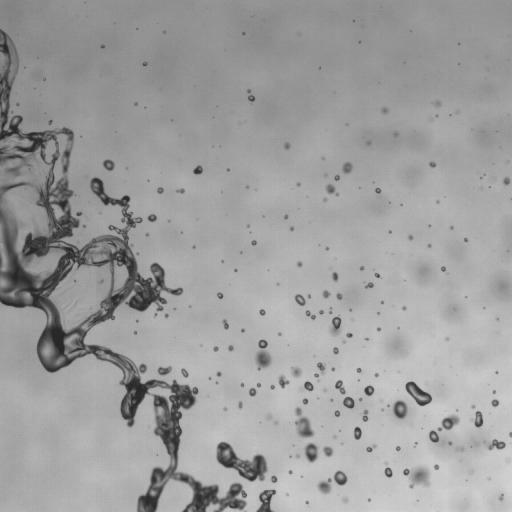droplet: (403, 466, 429, 488), (255, 339, 272, 370), (256, 489, 275, 511), (393, 400, 407, 419), (304, 443, 318, 462), (329, 315, 341, 336), (470, 411, 483, 427), (326, 184, 338, 196), (335, 380, 345, 394), (102, 159, 114, 170), (301, 380, 313, 391), (343, 396, 354, 408), (278, 375, 288, 388), (157, 366, 171, 375), (294, 294, 305, 305), (342, 162, 352, 173), (291, 366, 301, 377), (323, 446, 333, 457), (364, 385, 374, 395), (354, 426, 361, 439), (193, 165, 202, 175), (366, 444, 376, 452), (147, 214, 156, 222), (362, 410, 368, 421), (322, 290, 330, 298), (181, 368, 188, 377), (222, 319, 228, 329), (503, 177, 510, 185), (249, 388, 256, 396), (491, 399, 499, 406), (332, 272, 338, 281), (365, 282, 373, 288), (381, 107, 388, 113), (284, 142, 290, 149), (270, 476, 277, 482), (176, 188, 184, 193), (456, 446, 464, 451), (429, 161, 435, 167), (157, 187, 163, 193), (296, 261, 302, 267), (217, 292, 223, 298), (336, 293, 342, 299), (259, 309, 265, 315), (302, 398, 308, 404), (434, 101, 441, 106), (333, 347, 338, 354), (98, 279, 104, 284), (228, 345, 233, 351), (334, 410, 339, 416), (266, 414, 271, 420), (342, 497, 348, 502), (238, 401, 242, 408), (334, 175, 339, 180), (375, 188, 380, 193), (251, 240, 256, 245), (441, 266, 446, 271), (213, 346, 218, 351), (408, 234, 412, 240), (346, 333, 352, 337), (499, 494, 503, 500), (375, 273, 380, 277), (356, 368, 361, 372), (216, 372, 221, 376), (270, 384, 274, 389), (434, 464, 438, 469), (296, 182, 300, 186), (360, 266, 364, 270), (402, 306, 406, 310), (319, 310, 323, 314), (164, 314, 168, 318), (374, 373, 378, 377), (396, 446, 400, 450), (288, 470, 292, 474), (143, 62, 146, 66), (48, 120, 51, 124), (367, 141, 370, 145), (323, 198, 327, 201), (290, 226, 293, 230), (329, 309, 332, 313), (240, 383, 244, 386), (471, 405, 475, 408), (448, 441, 452, 444), (470, 470, 473, 474), (509, 432, 511, 437), (101, 45, 104, 48), (284, 215, 287, 218), (464, 238, 467, 241), (60, 292, 63, 295), (377, 327, 380, 330), (241, 328, 244, 331), (257, 383, 260, 386), (296, 454, 299, 457), (507, 459, 510, 462), (446, 337, 448, 341), (16, 103, 19, 105), (395, 132, 397, 135), (146, 233, 148, 236), (428, 244, 430, 247), (326, 247, 328, 250), (307, 295, 310, 297), (134, 331, 136, 334), (278, 332, 280, 335), (331, 368, 334, 370), (492, 391, 495, 393), (359, 398, 362, 400), (224, 407, 226, 410), (227, 168, 229, 170), (83, 225, 85, 227), (193, 246, 195, 248), (381, 301, 383, 303), (154, 314, 156, 316), (366, 338, 368, 340), (495, 371, 497, 373), (275, 421, 277, 423)
ligament: (0, 29, 245, 511), (216, 441, 267, 481), (430, 414, 459, 442), (317, 470, 347, 494), (405, 381, 431, 406), (294, 407, 314, 438), (484, 439, 505, 450), (314, 362, 325, 379), (384, 462, 393, 477), (305, 310, 315, 319), (247, 89, 254, 101)
